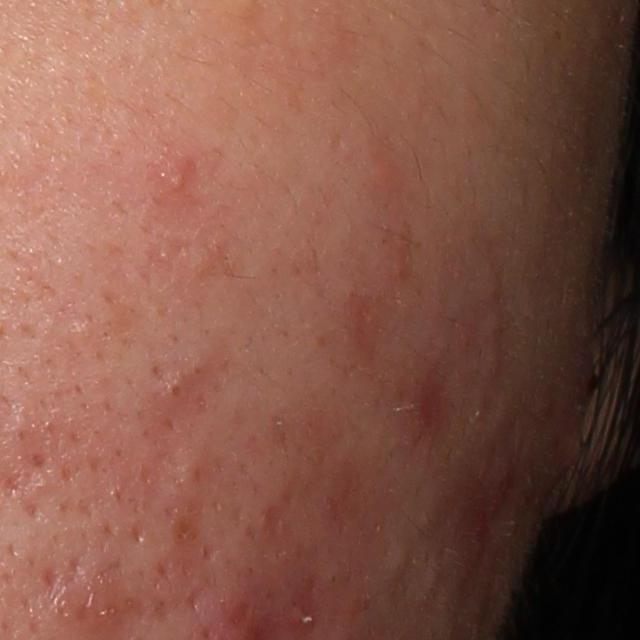comedo: (163, 375, 186, 404)
